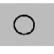no answer: (13, 13, 36, 36)
